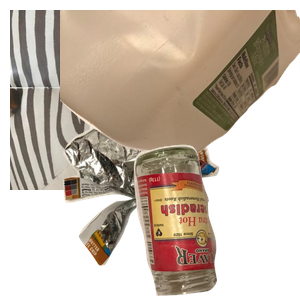glass: (131, 142, 300, 300)
paper: (10, 10, 250, 190)
plastic: (60, 10, 300, 160)
trash: (61, 123, 273, 300)
